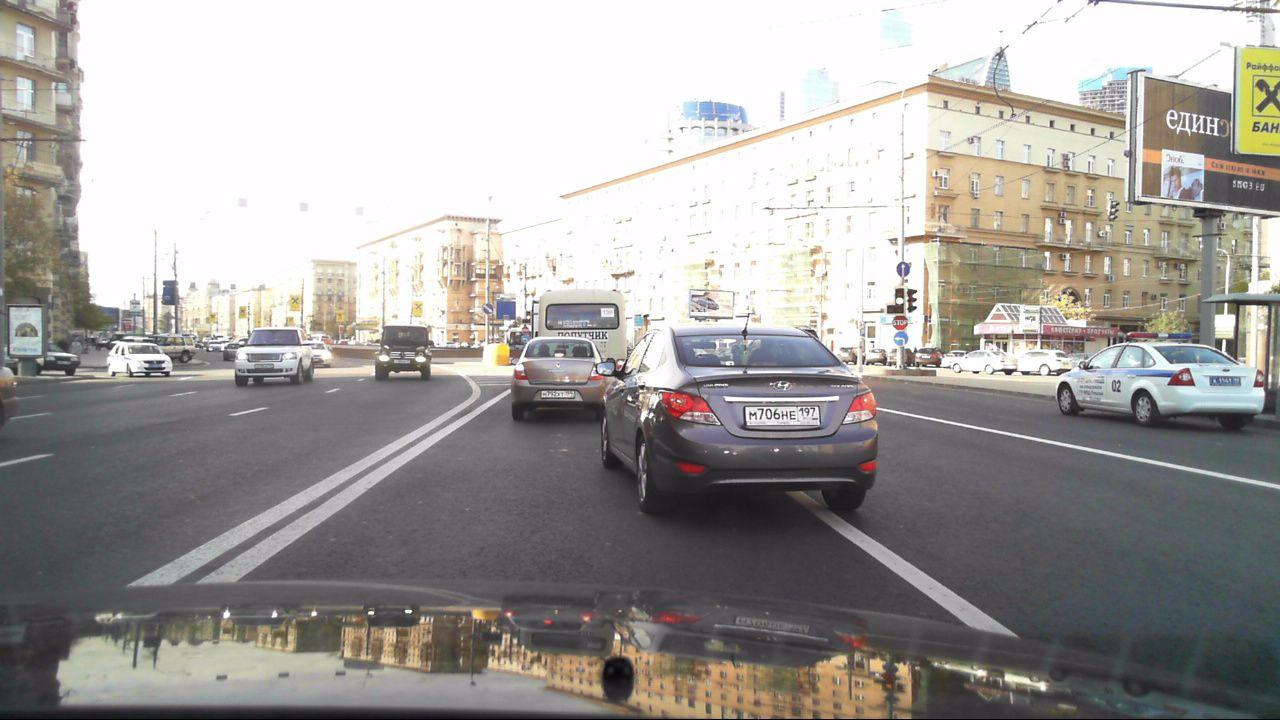2_5: (892, 314, 910, 330)
4_1_1: (896, 261, 910, 278)
4_1_3: (891, 329, 909, 347)
4_2_1: (482, 303, 494, 314)
